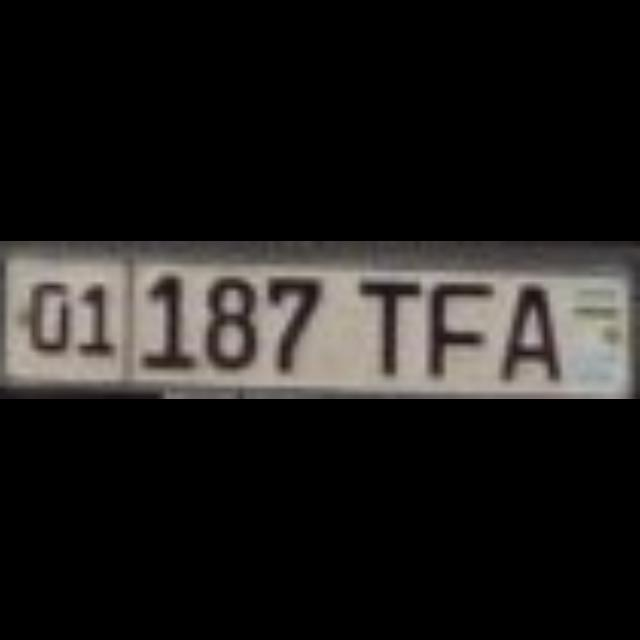0: (24, 272, 62, 344)
1: (134, 265, 190, 363), (72, 272, 110, 344)
7: (262, 265, 310, 363)
8: (194, 265, 250, 363)
A: (494, 271, 554, 369)
F: (420, 271, 488, 369)
T: (354, 271, 414, 369)
